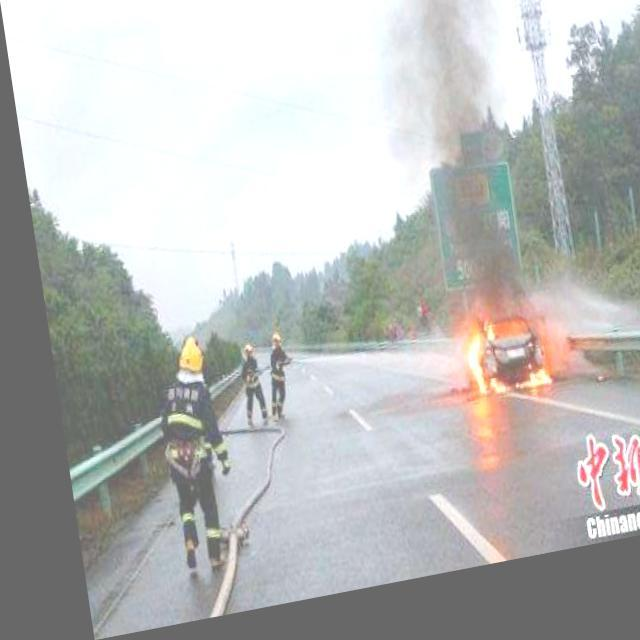Fire: (446, 318, 538, 417)
